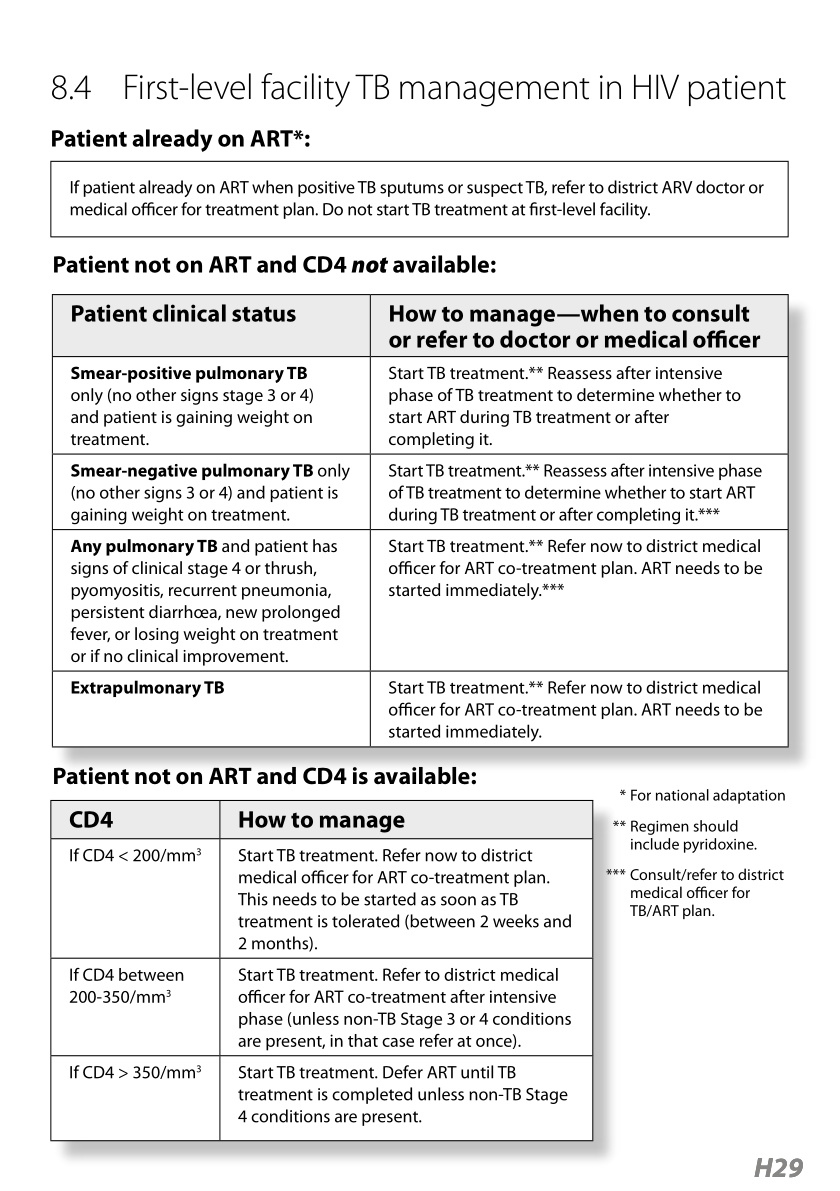full_lined: (50, 292, 790, 750), (48, 797, 594, 1143)
